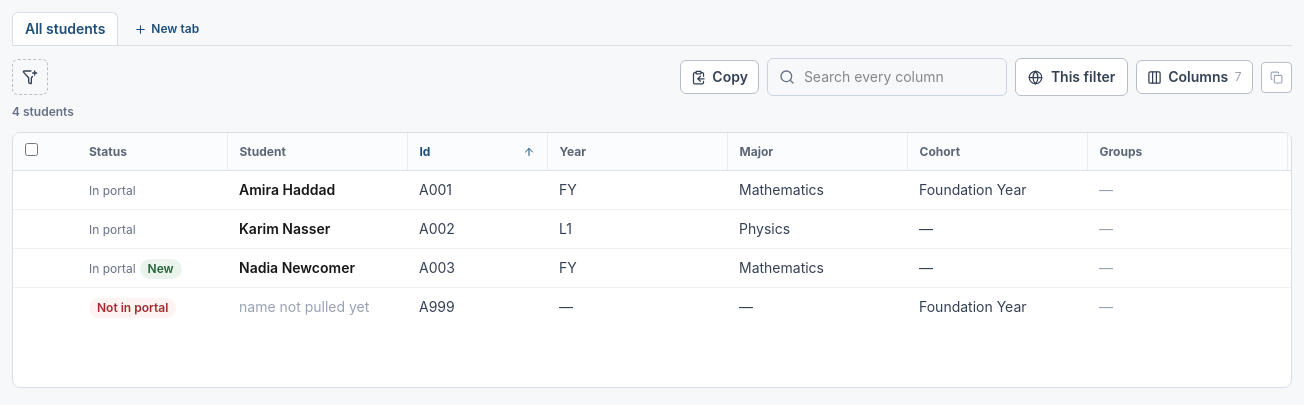
it: StudentRoster › searching › still finds by id and by name
The width and height of the screenshot is (1304, 405).
Expected: the text "Amira Haddad" is shown, x1=239 y1=181 x2=335 y2=198
Type "karim" into the search field named "Search students" at (887, 77), box x1=767 y1=58 x2=1007 y2=96
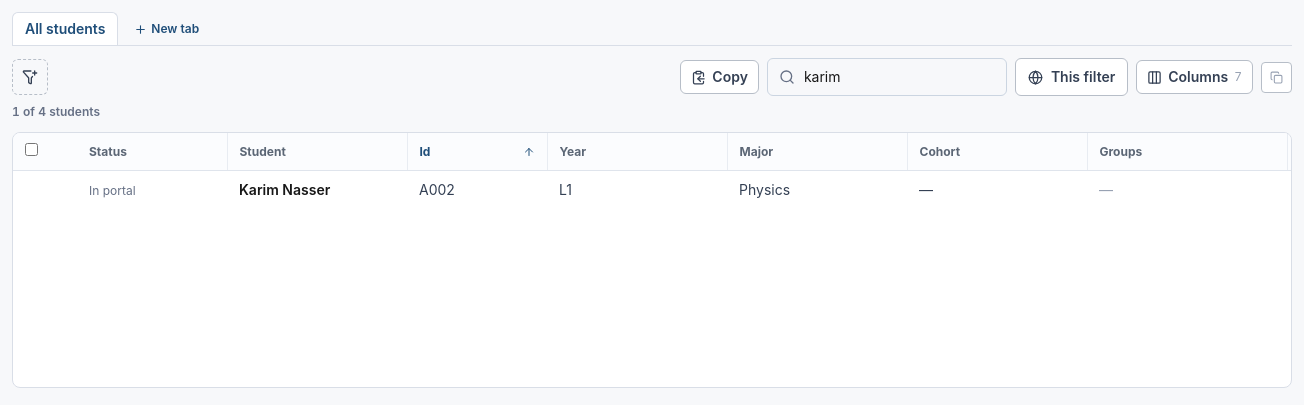
Now the text "Amira Haddad" is gone
Replace the text in the search field named "Search students" with "A999" at (887, 77), box x1=767 y1=58 x2=1007 y2=96
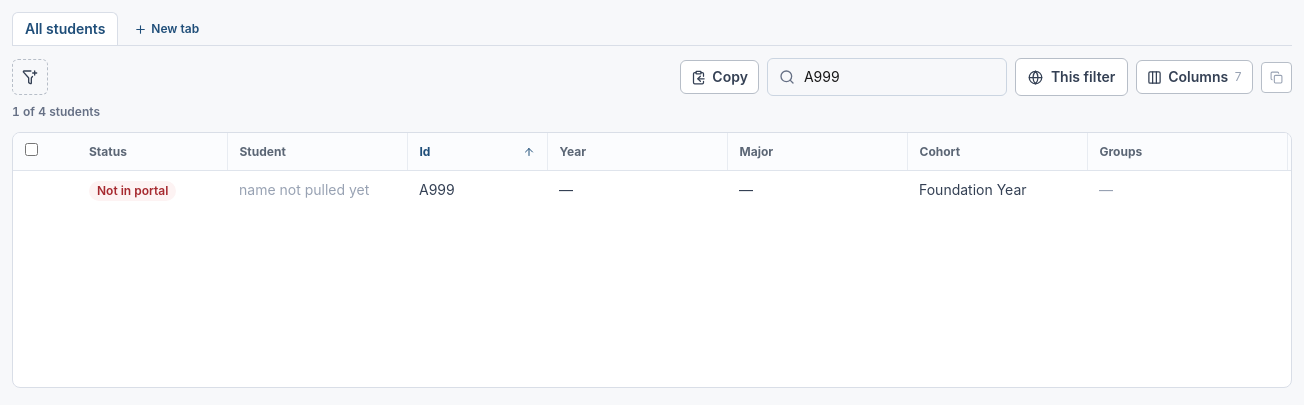
Now the text "A999" is shown, box x1=419 y1=181 x2=455 y2=198
